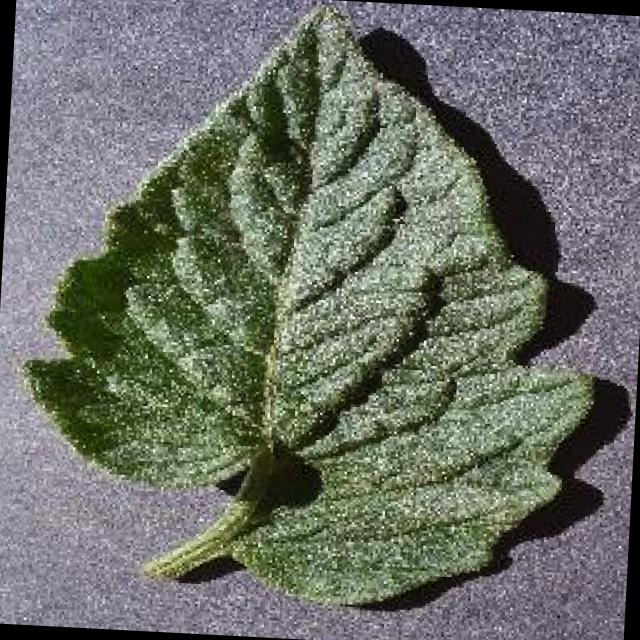Tomato_Healthy: (0, 0, 618, 625)
